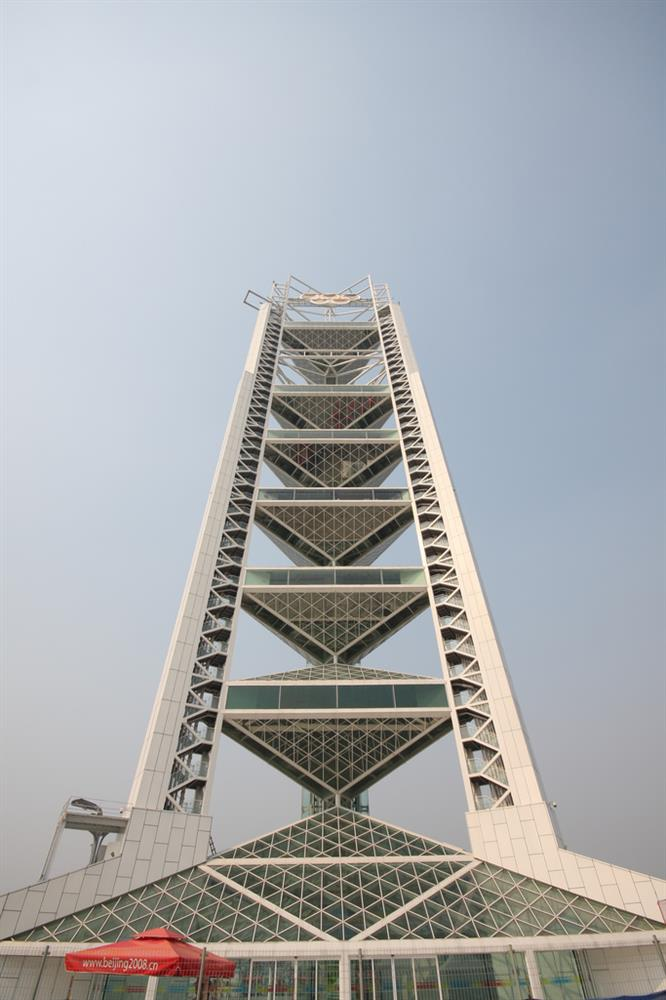LingLong_Pagoda: (123, 254, 579, 915)
